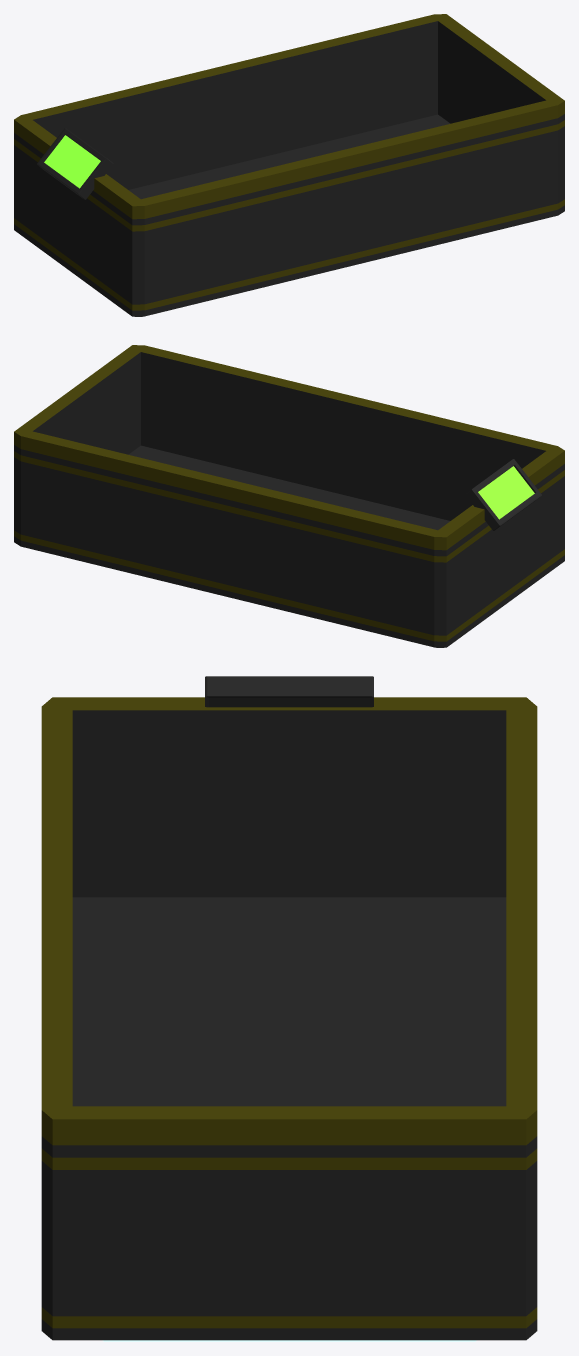
The model's file is cart.fbx.
3 views of the same model, one above another, from view 1: azimuth 30°, elevation 25°; view 2: azimuth 150°, elevation 25°; view 3: azimuth 270°, elevation 25° (orthographic). The views are drawn at different scales.
Parts seen in each view (by area): view 1: Cube.001; view 2: Cube.001; view 3: Cube.001.
Boxes of the visible parts, x1=… form: Cube.001: x1=14, y1=14, x2=564, y2=316; Cube.001: x1=14, y1=345, x2=564, y2=647; Cube.001: x1=41, y1=676, x2=537, y2=1341.
Bounding box in the file's own units: 830 × 250 × 398.
